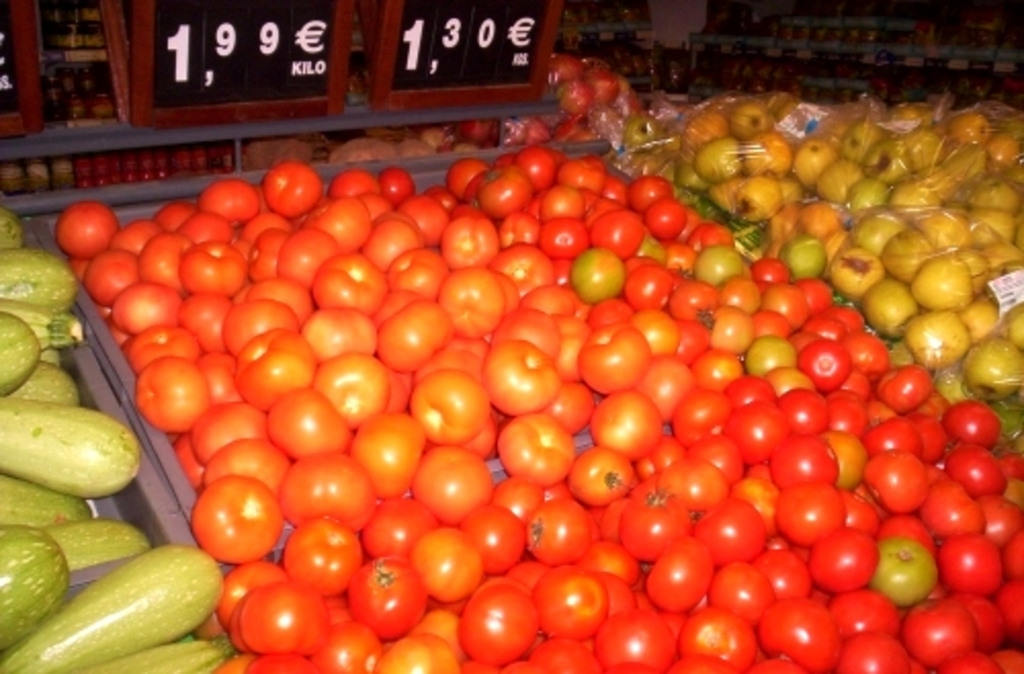Tomato: (53, 147, 1021, 671), (180, 462, 272, 567)
